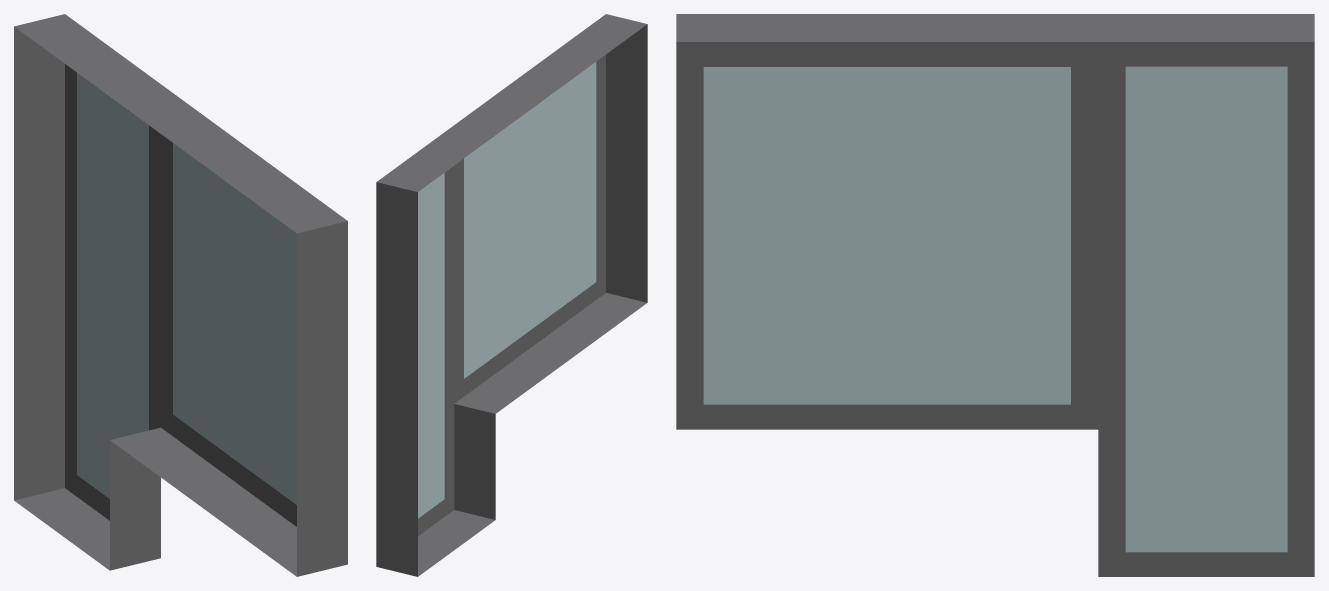
File: Balcony doors in front.fbx
3 renders of one model, left to right at view 1: azimuth 30°, elevation 25°; view 2: azimuth 150°, elevation 25°; view 3: azimuth 270°, elevation 25°, orthographic. The views are drawn at different scales.
Visible parts, largest first — view 1: Fasad min.004; view 2: Fasad min.004; view 3: Fasad min.004.
Part boxes in pixels (x1,y1,x2,y2): Fasad min.004: (14, 14, 347, 576); Fasad min.004: (376, 14, 647, 576); Fasad min.004: (676, 14, 1314, 576).
Size of the model in its own units: 54.79 by 487 by 526.
